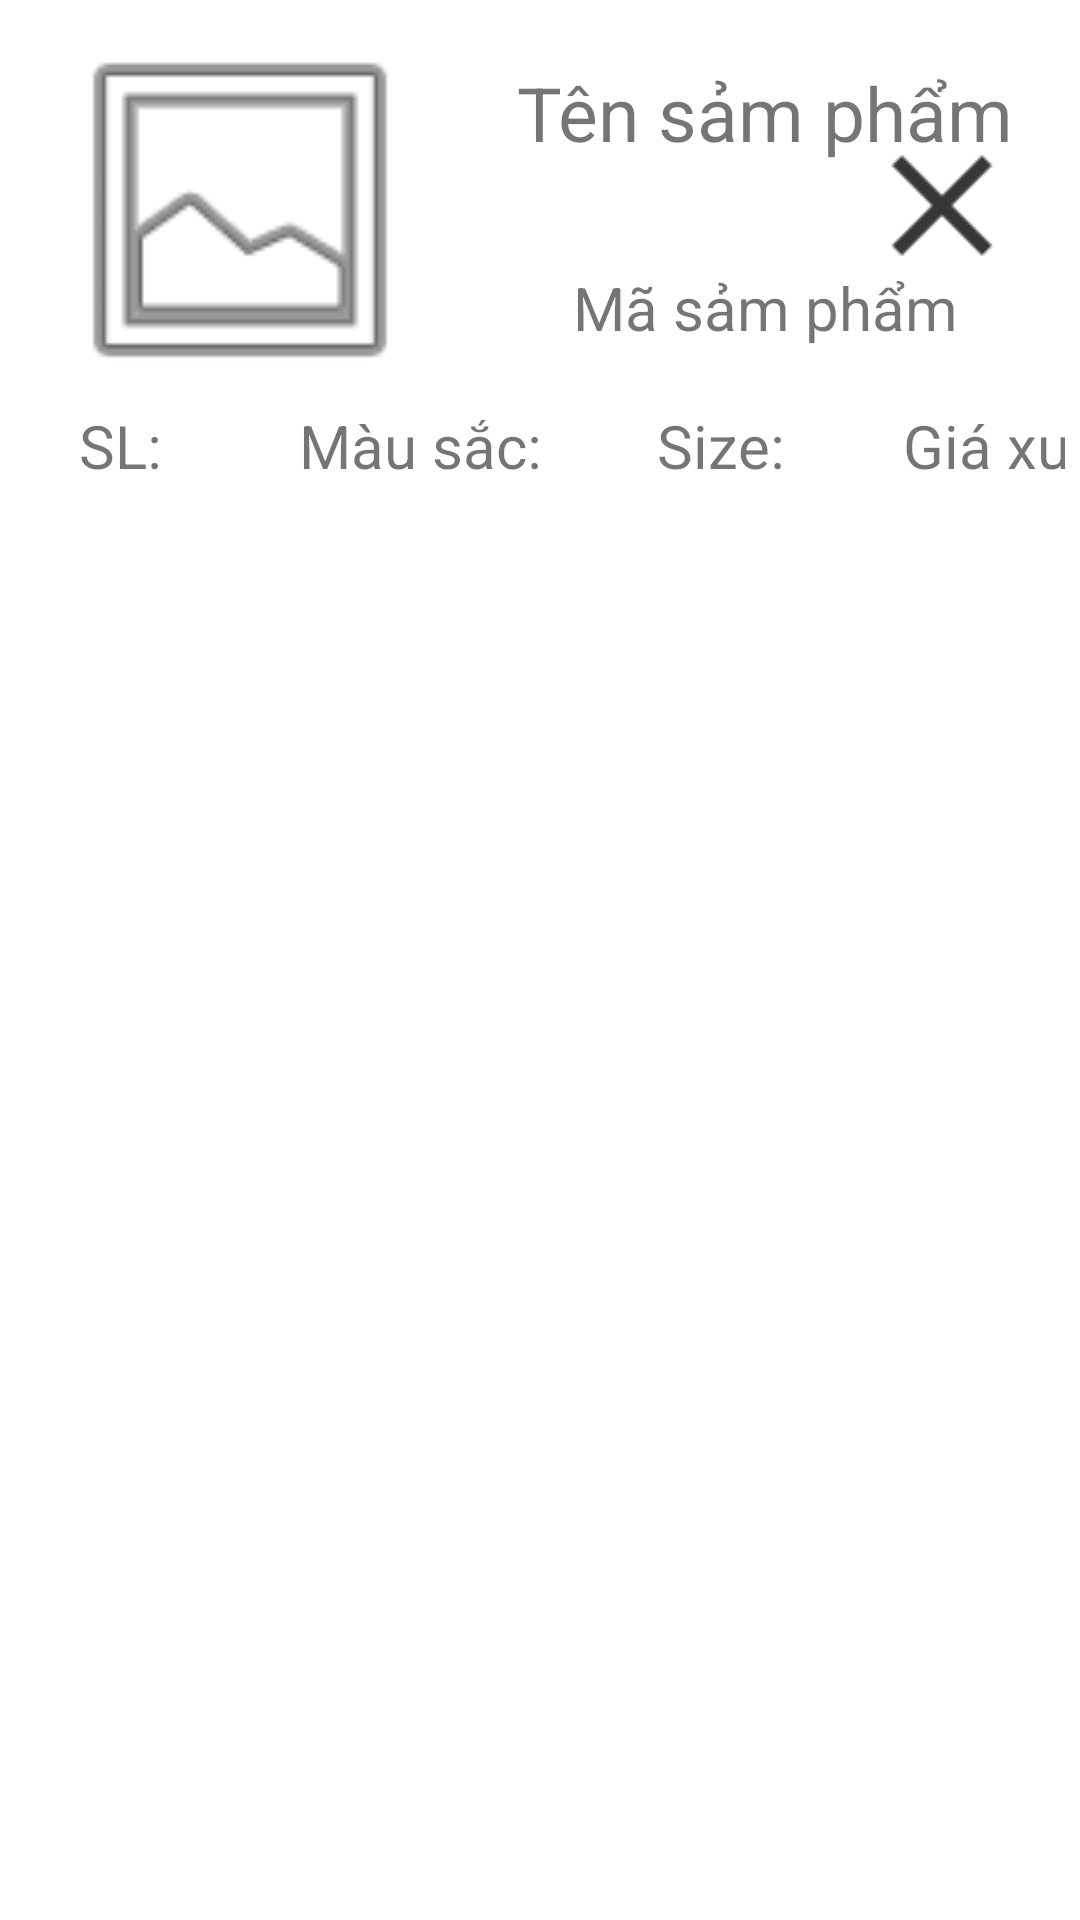

Where icons sit on this 1080*1920 app screen, as (x1, y1, x2, y2):
delete: (883, 155, 993, 291)
gallery: (93, 63, 387, 357)
